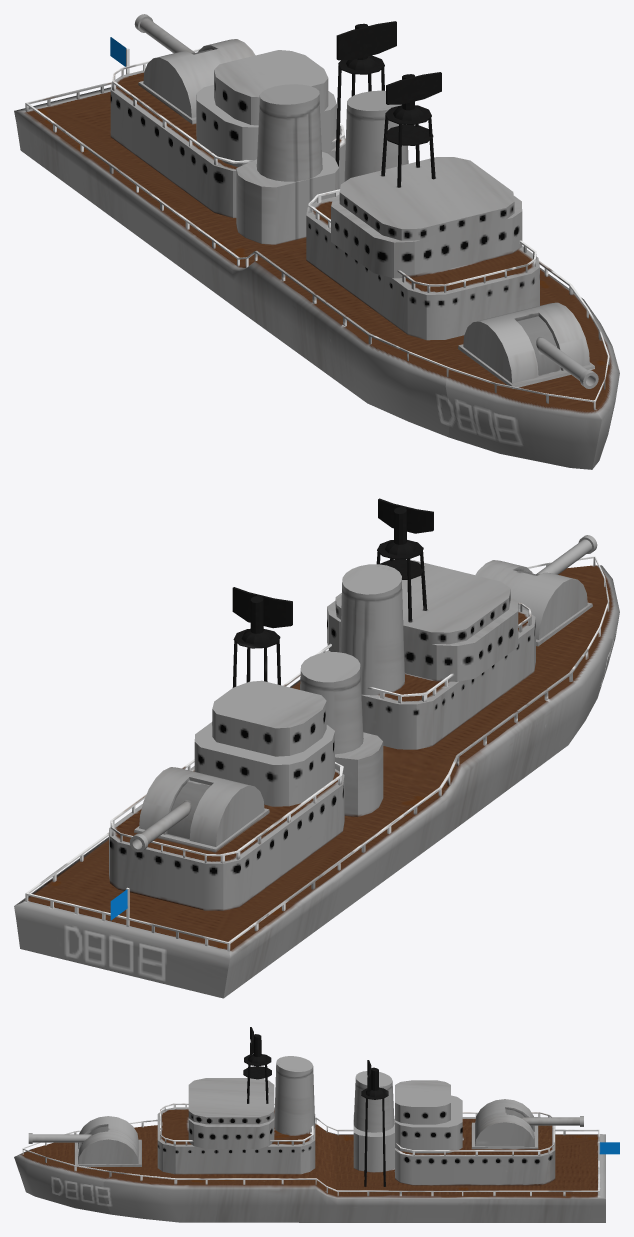
File: Hr.Ms.Holland D808.fbx
3 renders of one model, top to bottom at view 1: azimuth 30°, elevation 25°; view 2: azimuth 150°, elevation 25°; view 3: azimuth 270°, elevation 25°, orthographic. The views are drawn at different scales.
Parts seen in each view (by area): view 1: polySurface1; view 2: polySurface1; view 3: polySurface1.
Boxes of the visible parts, x1,y1,x2,y2 form: polySurface1: (14,14,619,469); polySurface1: (14,498,619,998); polySurface1: (14,1027,619,1222).
Size of the model in its own units: 7.63 by 8.52 by 29.58.
Materials: 1 (1 with a texture image).
